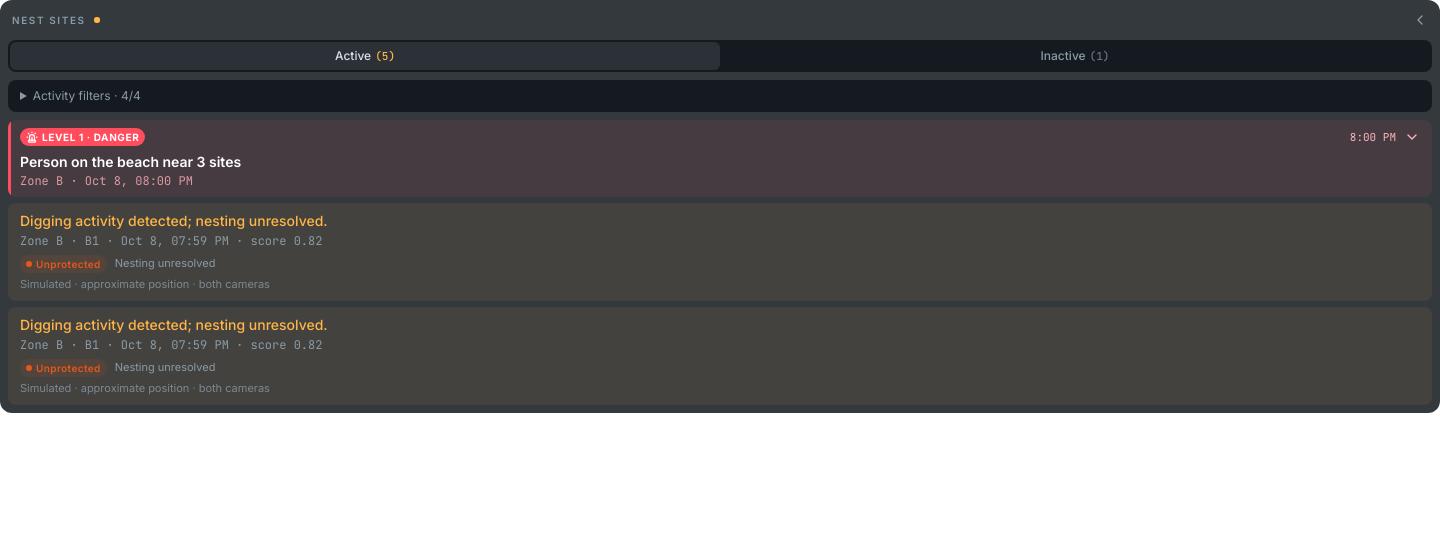
AlertsFeed dangers › expands to one row per site with Resolve buttons and flags a closed site
Click the button "Person on the beach near 3 sites" at (83, 137), box [8,120,1432,197]
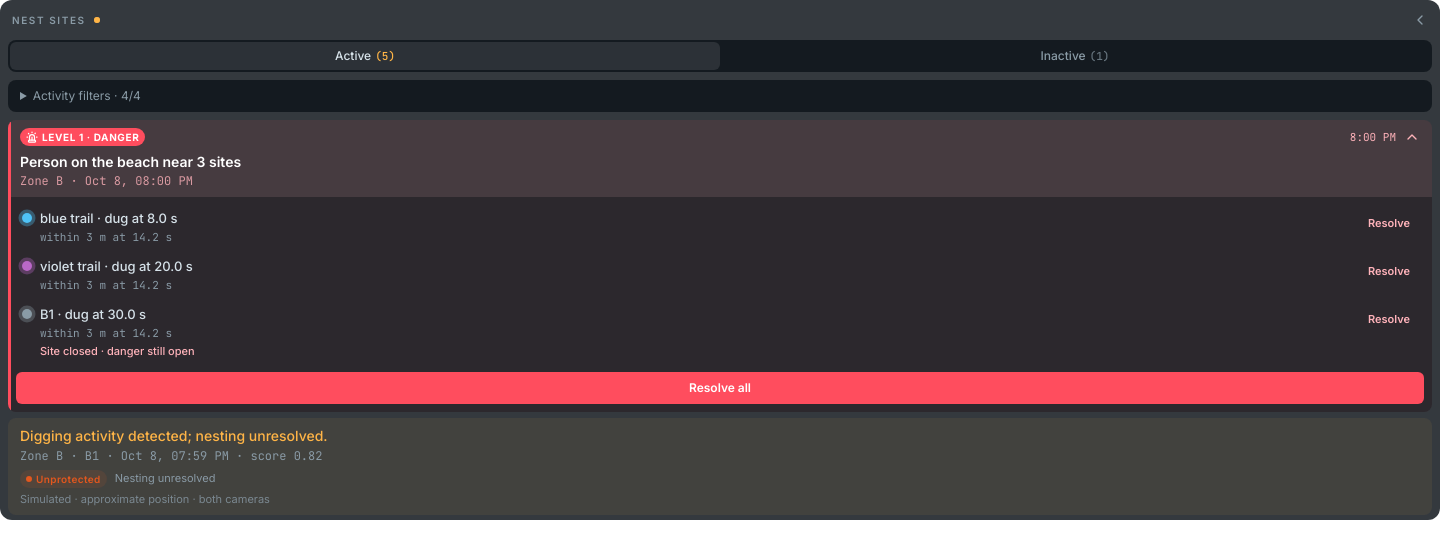
expect the number of elements named "Danger at " is 3: met, box [16,203,1424,251]; [16,251,1424,299]; [16,299,1424,366]
expect the button with aria-label "Zone B · blue trail · dug at 8.0 s" is shown: met, box [40,209,1352,229]
expect the button with aria-label "Resolve danger at " is shown: met, box [1360,211,1418,235]
